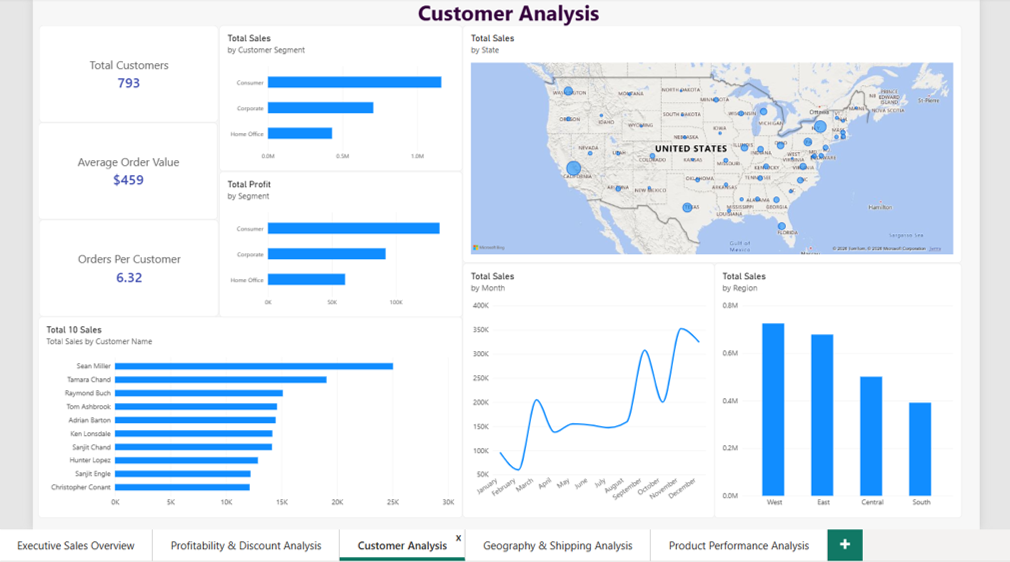

The dashboard page shown, as its layout file describes it:
{"tool":"powerbi","page":{"name":"Customer Analysis","canvas":[1920,1080],"ordinal":2},"visuals":[{"type":"textbox","box":[10.9,0,1909.2,112.2],"z":0},{"type":"cardVisual","fields":{"Data":["Orders.Total Customers"]},"box":[12.7,56.1,363.7,197.3],"z":1000},{"type":"cardVisual","fields":{"Data":["Orders.Orders Per Customer"]},"box":[12.3,450.8,364.3,197.6],"z":2000},{"type":"cardVisual","fields":{"Data":["Orders.Average Order Value"]},"box":[10.3,253.2,364,197],"z":3000},{"type":"clusteredBarChart","fields":{"Category":["Orders.Segment"],"Y":["Orders.Total Sales"]},"box":[378.3,56.5,493.5,295.7],"z":4000},{"type":"clusteredBarChart","title":"Total 10 Sales","fields":{"Category":["Orders.Customer Name"],"Y":["Orders.Total Sales"]},"box":[10.9,647.8,860.9,408.7],"z":5000},{"type":"clusteredColumnChart","fields":{"Category":["Orders.Region"],"Y":["Orders.Total Sales"]},"box":[1382.6,539.1,502.2,517.4],"z":6000},{"type":"lineChart","fields":{"Category":["DimDate.Month"],"Y":["Orders.Total Sales"]},"box":[871.7,539.1,510.9,517.4],"z":7000},{"type":"clusteredBarChart","fields":{"Category":["Orders.Segment"],"Y":["Orders.Total Profit"]},"box":[378.3,352.2,493.5,295.7],"z":8000},{"type":"map","fields":{"Category":["Orders.State"],"Size":["Orders.Total Sales"]},"box":[871.7,56.5,1013,482.6],"z":9000}]}

Visuals, with their boxes on the page's 1920x1080 design canvas (x1, y1, x2, y2). These are canvas units, not pixel positions in the 1010x562 screenshot, which may show the page scaled, cropped or inside an application window:
textbox: x1=11, y1=0, x2=1920, y2=112
cardVisual - Orders.Total Customers: x1=13, y1=56, x2=376, y2=253
cardVisual - Orders.Orders Per Customer: x1=12, y1=451, x2=377, y2=648
cardVisual - Orders.Average Order Value: x1=10, y1=253, x2=374, y2=450
clusteredBarChart - Orders.Segment x Orders.Total Sales: x1=378, y1=56, x2=872, y2=352
"Total 10 Sales" clusteredBarChart: x1=11, y1=648, x2=872, y2=1056
clusteredColumnChart - Orders.Region x Orders.Total Sales: x1=1383, y1=539, x2=1885, y2=1056
lineChart - DimDate.Month x Orders.Total Sales: x1=872, y1=539, x2=1383, y2=1056
clusteredBarChart - Orders.Segment x Orders.Total Profit: x1=378, y1=352, x2=872, y2=648
map - Orders.State x Orders.Total Sales: x1=872, y1=56, x2=1885, y2=539
